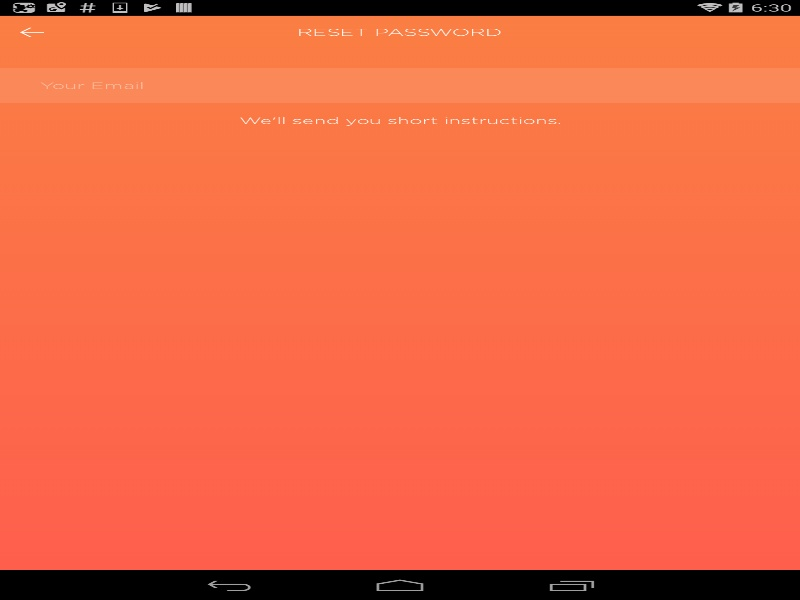Input: (0, 68, 800, 103)
